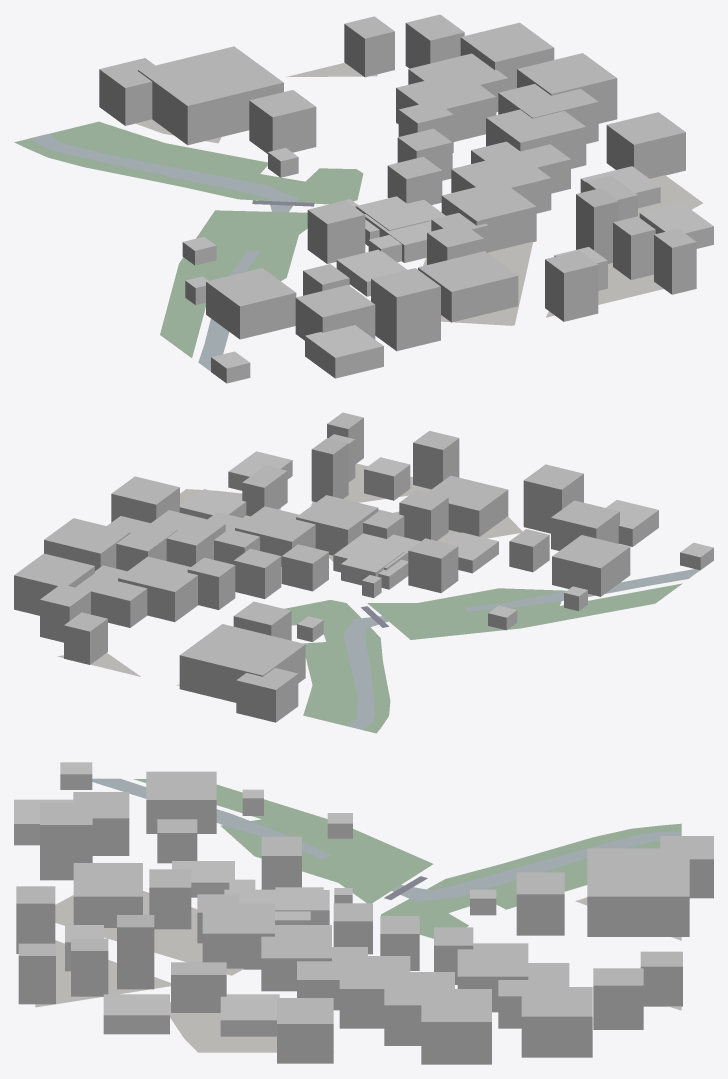
The model's file is 124_111_mid.glb.
3 renders of one model, top to bottom at view 1: azimuth 30°, elevation 25°; view 2: azimuth 150°, elevation 25°; view 3: azimuth 270°, elevation 25°, orthographic. The views are drawn at different scales.
Size of the model in its own units: 521 by 54.51 by 542.
